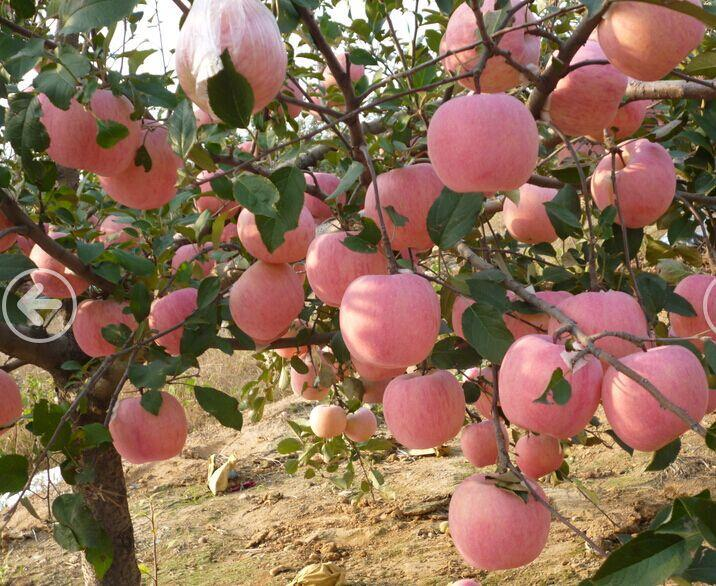apple: (602, 346, 707, 450), (498, 334, 603, 438), (447, 473, 553, 574), (31, 81, 138, 177), (340, 275, 441, 368), (600, 1, 709, 82), (445, 2, 543, 91), (365, 163, 448, 252), (477, 168, 560, 257), (99, 117, 177, 211), (595, 138, 677, 227), (549, 289, 648, 360), (382, 371, 466, 448), (304, 231, 389, 307), (108, 386, 189, 464), (230, 260, 303, 341), (550, 60, 626, 135), (72, 296, 143, 357), (149, 288, 203, 358)
